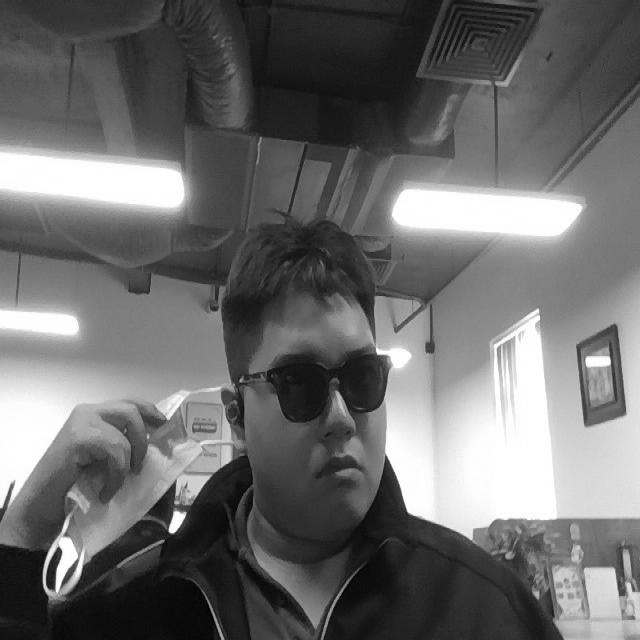fake: (56, 389, 202, 572), (245, 349, 393, 419)
real: (222, 215, 391, 540)
